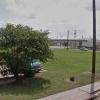Tree: (0, 20, 56, 90)
